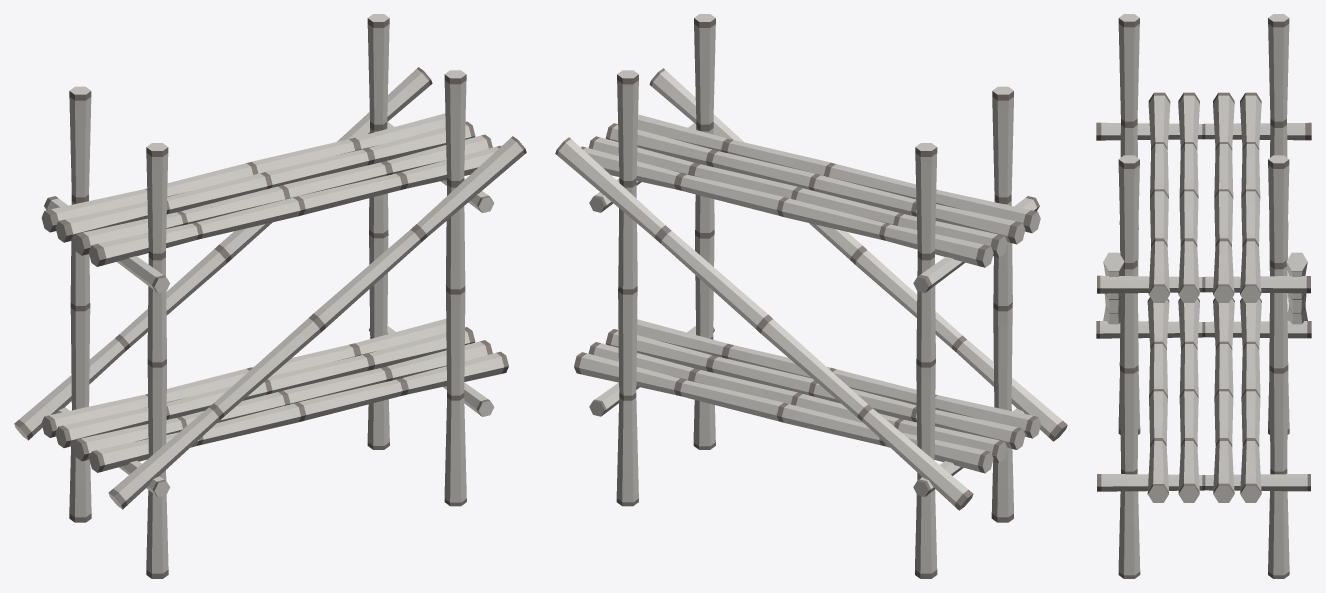
File: Bamboo_forest_3.fbx
3 renders of one model, left to right at view 1: azimuth 30°, elevation 25°; view 2: azimuth 150°, elevation 25°; view 3: azimuth 270°, elevation 25°, orthographic. The views are drawn at different scales.
Visible parts, largest first — view 1: Bamboo_forest_3; view 2: Bamboo_forest_3; view 3: Bamboo_forest_3.
Part boxes in pixels (x1,y1,x2,y2): Bamboo_forest_3: (14,14,526,578); Bamboo_forest_3: (555,14,1067,578); Bamboo_forest_3: (1096,14,1311,578).
Size of the model in its own units: 4.06 by 3.99 by 1.87.
Materials: 1 (1 with a texture image).
